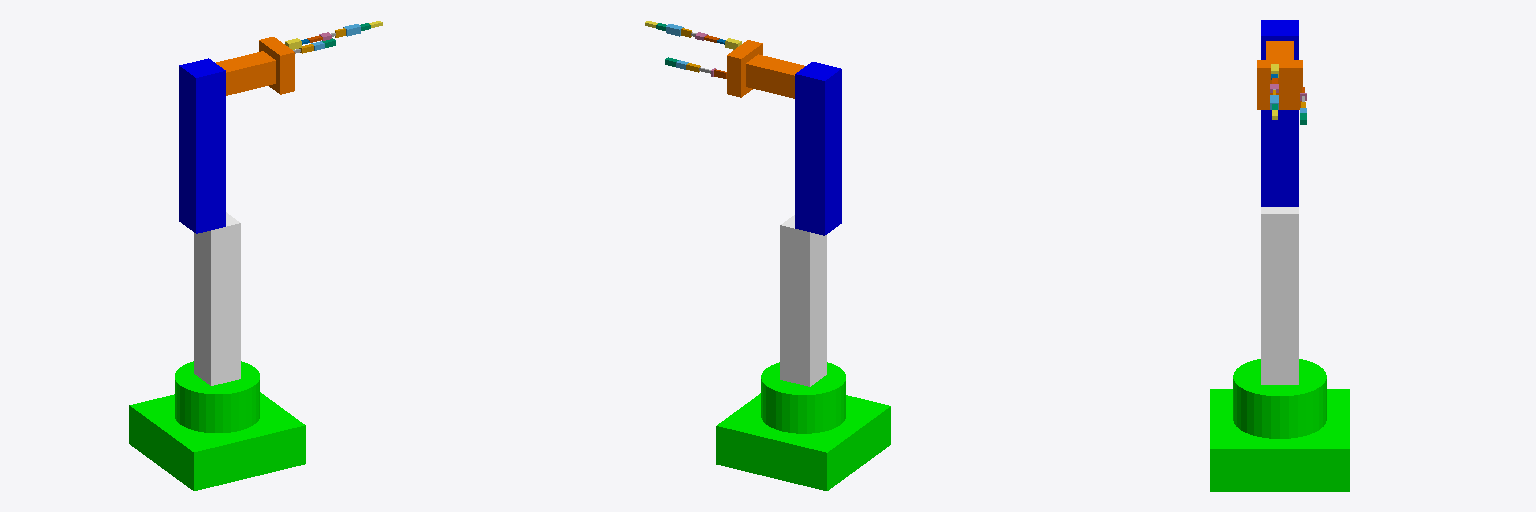
The robot description file, URDF, robot "robot":
<?xml version='1.0' encoding='utf-8'?>
<robot name="robot">
  <link name="base_link">
    <visual>
      <origin xyz="0 0 0.125" rpy="0 0 0" />
      <geometry>
        <box size="0.75 0.75 0.25" />
      </geometry>
      <material name="green" />
    </visual>
    <visual>
      <origin xyz="0 0 0.375" rpy="0 0 0" />
      <geometry>
        <cylinder length="0.25" radius="0.25" />
      </geometry>
      <material name="green">
        <color rgba="0 1 0 1" />
      </material>
    </visual>
    <collision>
      <geometry>
        <box size="0.75 0.75 0.5" />
      </geometry>
    </collision>
    <inertial>
      <mass value="0.5" />
      <inertia ixx="0.034" ixy="0.0" ixz="0.0" iyy="0.034" iyz="0.0" izz="0.034" />
    </inertial>
  </link>
  <link name="support_link">
    <visual>
      <origin xyz="0 0 0.5" rpy="0 0 0" />
      <geometry>
        <box size="0.2 0.2 1" />
      </geometry>
      <material name="white">
        <color rgba="1 1 1 1" />
      </material>
    </visual>
    <collision>
      <geometry>
        <box size="0.2 0.2 1" />
      </geometry>
    </collision>
    <inertial>
      <mass value="0.1" />
      <inertia ixx="0.01" ixy="0.0" ixz="0.0" iyy="0.01" iyz="0.0" izz="0.01" />
    </inertial>
  </link>
  <joint name="support_joint" type="continuous">
    <origin xyz="0 0 0.5" rpy="0 0 0" />
    <parent link="base_link" />
    <child link="support_link" />
    <axis xyz="0 0 1" />
  </joint>
  <link name="arm_link">
    <visual>
      <origin xyz="0 0 0.5" rpy="0 0 0" />
      <geometry>
        <box size="0.2 0.2 1" />
      </geometry>
      <material name="blue">
        <color rgba="0 0 1 1" />
      </material>
    </visual>
    <collision>
      <geometry>
        <box size="0.2 0.2 1" />
      </geometry>
    </collision>
    <inertial>
      <mass value="0.1" />
      <inertia ixx="0.01" ixy="0.0" ixz="0.0" iyy="0.01" iyz="0.0" izz="0.01" />
    </inertial>
  </link>
  <joint name="arm_joint" type="revolute">
    <origin xyz="-0.1 0 1" rpy="0 0 0" />
    <parent link="support_link" />
    <child link="arm_link" />
    <axis xyz="0 1 0" />
    <limit lower="-3.14" upper="3.14" effort="1.0" velocity="1.0" />
  </joint>
  <link name="wrist_link">
    <visual>
      <origin xyz="0 0 0.25" rpy="0 0 0" />
      <geometry>
        <box size="0.15 0.15 0.5" />
      </geometry>
      <material name="orange">
        <color rgba="1 0.5 0 1" />
      </material>
    </visual>
    <collision>
      <geometry>
        <box size="0.15 0.15 0.5" />
      </geometry>
    </collision>
    <inertial>
      <mass value="0.1" />
      <inertia ixx="0.01" ixy="0.0" ixz="0.0" iyy="0.01" iyz="0.0" izz="0.01" />
    </inertial>
  </link>
  <joint name="wrist_joint" type="fixed">
    <origin xyz="0 0 0.9" rpy="0 1.571 0" />
    <parent link="arm_link" />
    <child link="wrist_link" />
  </joint>
  <link name="palm_link">
    <visual>
      <origin xyz="0 0 0.05" rpy="0 0 0" />
      <geometry>
        <box size="0.25 0.25 0.1" />
      </geometry>
      <material name="orange" />
    </visual>
    <collision>
      <geometry>
        <box size="0.25 0.25 0.1" />
      </geometry>
    </collision>
    <inertial>
      <mass value="0.1" />
      <inertia ixx="0.01" ixy="0.0" ixz="0.0" iyy="0.01" iyz="0.0" izz="0.01" />
    </inertial>
  </link>
  <joint name="palm_joint" type="fixed">
    <origin xyz="0 0 0.45" rpy="0 0 0" />
    <parent link="wrist_link" />
    <child link="palm_link" />
  </joint>
  <link name="finger_link_0_0">
    <visual>
      <origin xyz="0 0 0.0395" rpy="0 0 0" />
      <geometry>
        <box size="0.041 0.014 0.079" />
      </geometry>
    </visual>
    <collision>
      <geometry>
        <box size="0.041 0.014 0.079" />
      </geometry>
    </collision>
    <inertial>
      <mass value="0.014" />
      <inertia ixx="0.0" iyy="0.0" izz="0.0" ixy="0" ixz="0" iyz="0" />
    </inertial>
  </link>
  <joint name="finger_joint_palm_link_to_finger_link_0_0" type="revolute">
    <origin xyz="0.006 0.125 0.1" rpy="0 0 0" />
    <parent link="palm_link" />
    <child link="finger_link_0_0" />
    <axis xyz="-1.0 0.0 0.0" />
    <limit lower="-3.142" upper="3.142" effort="10" velocity="10" />
  </joint>
  <link name="finger_link_0_1">
    <visual>
      <origin xyz="0 0 0.0075" rpy="0 0 0" />
      <geometry>
        <box size="0.04 0.038 0.015" />
      </geometry>
    </visual>
    <collision>
      <geometry>
        <box size="0.04 0.038 0.015" />
      </geometry>
    </collision>
    <inertial>
      <mass value="0.007" />
      <inertia ixx="0.0" iyy="0.0" izz="0.0" ixy="0" ixz="0" iyz="0" />
    </inertial>
  </link>
  <joint name="finger_joint_finger_link_0_0_to_finger_link_0_1" type="revolute">
    <origin xyz="0.0 0.0 0.079" rpy="0 0 0" />
    <parent link="finger_link_0_0" />
    <child link="finger_link_0_1" />
    <axis xyz="1.0 0.0 0.0" />
    <limit lower="-3.142" upper="3.142" effort="10" velocity="10" />
  </joint>
  <link name="finger_link_0_2">
    <visual>
      <origin xyz="0 0 0.0435" rpy="0 0 0" />
      <geometry>
        <box size="0.019 0.011 0.087" />
      </geometry>
    </visual>
    <collision>
      <geometry>
        <box size="0.019 0.011 0.087" />
      </geometry>
    </collision>
    <inertial>
      <mass value="0.005" />
      <inertia ixx="0.0" iyy="0.0" izz="0.0" ixy="0" ixz="0" iyz="0" />
    </inertial>
  </link>
  <joint name="finger_joint_finger_link_0_1_to_finger_link_0_2" type="revolute">
    <origin xyz="0.0 0.0 0.015" rpy="0 0 0" />
    <parent link="finger_link_0_1" />
    <child link="finger_link_0_2" />
    <axis xyz="0.0 1.0 0.0" />
    <limit lower="-3.142" upper="3.142" effort="10" velocity="10" />
  </joint>
  <link name="finger_link_0_3">
    <visual>
      <origin xyz="0 0 0.041" rpy="0 0 0" />
      <geometry>
        <box size="0.033 0.03 0.082" />
      </geometry>
    </visual>
    <collision>
      <geometry>
        <box size="0.033 0.03 0.082" />
      </geometry>
    </collision>
    <inertial>
      <mass value="0.024" />
      <inertia ixx="0.0" iyy="0.0" izz="0.0" ixy="0" ixz="0" iyz="0" />
    </inertial>
  </link>
  <joint name="finger_joint_finger_link_0_2_to_finger_link_0_3" type="revolute">
    <origin xyz="0.0 0.0 0.087" rpy="0 0 0" />
    <parent link="finger_link_0_2" />
    <child link="finger_link_0_3" />
    <axis xyz="0.0 1.0 0.0" />
    <limit lower="-3.142" upper="3.142" effort="10" velocity="10" />
  </joint>
  <link name="finger_link_0_4">
    <visual>
      <origin xyz="0 0 0.0335" rpy="0 0 0" />
      <geometry>
        <box size="0.034 0.037 0.067" />
      </geometry>
    </visual>
    <collision>
      <geometry>
        <box size="0.034 0.037 0.067" />
      </geometry>
    </collision>
    <inertial>
      <mass value="0.025" />
      <inertia ixx="0.0" iyy="0.0" izz="0.0" ixy="0" ixz="0" iyz="0" />
    </inertial>
  </link>
  <joint name="finger_joint_finger_link_0_3_to_finger_link_0_4" type="revolute">
    <origin xyz="0.0 0.0 0.082" rpy="0 0 0" />
    <parent link="finger_link_0_3" />
    <child link="finger_link_0_4" />
    <axis xyz="0.0 1.0 0.0" />
    <limit lower="-3.142" upper="3.142" effort="10" velocity="10" />
  </joint>
  <link name="finger_link_0_5">
    <visual>
      <origin xyz="0 0 0.0385" rpy="0 0 0" />
      <geometry>
        <box size="0.034 0.035 0.077" />
      </geometry>
    </visual>
    <collision>
      <geometry>
        <box size="0.034 0.035 0.077" />
      </geometry>
    </collision>
    <inertial>
      <mass value="0.027" />
      <inertia ixx="0.0" iyy="0.0" izz="0.0" ixy="0" ixz="0" iyz="0" />
    </inertial>
  </link>
  <joint name="finger_joint_finger_link_0_4_to_finger_link_0_5" type="revolute">
    <origin xyz="0.0 0.0 0.067" rpy="0 0 0" />
    <parent link="finger_link_0_4" />
    <child link="finger_link_0_5" />
    <axis xyz="0.0 1.0 0.0" />
    <limit lower="-3.142" upper="3.142" effort="10" velocity="10" />
  </joint>
  <link name="finger_link_1_0">
    <visual>
      <origin xyz="0 0 0.0425" rpy="0 0 0" />
      <geometry>
        <box size="0.044 0.045 0.085" />
      </geometry>
    </visual>
    <collision>
      <geometry>
        <box size="0.044 0.045 0.085" />
      </geometry>
    </collision>
    <inertial>
      <mass value="0.05" />
      <inertia ixx="0.0" iyy="0.0" izz="0.0" ixy="0" ixz="0" iyz="0" />
    </inertial>
  </link>
  <joint name="finger_joint_palm_link_to_finger_link_1_0" type="revolute">
    <origin xyz="-0.125 -0.028 0.1" rpy="0 0 0" />
    <parent link="palm_link" />
    <child link="finger_link_1_0" />
    <axis xyz="0.0 -1.0 0.0" />
    <limit lower="-3.142" upper="3.142" effort="10" velocity="10" />
  </joint>
  <link name="finger_link_1_1">
    <visual>
      <origin xyz="0 0 0.0295" rpy="0 0 0" />
      <geometry>
        <box size="0.012 0.036 0.059" />
      </geometry>
    </visual>
    <collision>
      <geometry>
        <box size="0.012 0.036 0.059" />
      </geometry>
    </collision>
    <inertial>
      <mass value="0.008" />
      <inertia ixx="0.0" iyy="0.0" izz="0.0" ixy="0" ixz="0" iyz="0" />
    </inertial>
  </link>
  <joint name="finger_joint_finger_link_1_0_to_finger_link_1_1" type="revolute">
    <origin xyz="0.0 0.0 0.085" rpy="0 0 0" />
    <parent link="finger_link_1_0" />
    <child link="finger_link_1_1" />
    <axis xyz="0.0 1.0 0.0" />
    <limit lower="-3.142" upper="3.142" effort="10" velocity="10" />
  </joint>
  <link name="finger_link_1_2">
    <visual>
      <origin xyz="0 0 0.043" rpy="0 0 0" />
      <geometry>
        <box size="0.018 0.034 0.086" />
      </geometry>
    </visual>
    <collision>
      <geometry>
        <box size="0.018 0.034 0.086" />
      </geometry>
    </collision>
    <inertial>
      <mass value="0.016" />
      <inertia ixx="0.0" iyy="0.0" izz="0.0" ixy="0" ixz="0" iyz="0" />
    </inertial>
  </link>
  <joint name="finger_joint_finger_link_1_1_to_finger_link_1_2" type="revolute">
    <origin xyz="0.0 0.0 0.059" rpy="0 0 0" />
    <parent link="finger_link_1_1" />
    <child link="finger_link_1_2" />
    <axis xyz="0.0 1.0 0.0" />
    <limit lower="-3.142" upper="3.142" effort="10" velocity="10" />
  </joint>
  <link name="finger_link_1_3">
    <visual>
      <origin xyz="0 0 0.03" rpy="0 0 0" />
      <geometry>
        <box size="0.024 0.049 0.06" />
      </geometry>
    </visual>
    <collision>
      <geometry>
        <box size="0.024 0.049 0.06" />
      </geometry>
    </collision>
    <inertial>
      <mass value="0.021" />
      <inertia ixx="0.0" iyy="0.0" izz="0.0" ixy="0" ixz="0" iyz="0" />
    </inertial>
  </link>
  <joint name="finger_joint_finger_link_1_2_to_finger_link_1_3" type="revolute">
    <origin xyz="0.0 0.0 0.086" rpy="0 0 0" />
    <parent link="finger_link_1_2" />
    <child link="finger_link_1_3" />
    <axis xyz="0.0 1.0 0.0" />
    <limit lower="-3.142" upper="3.142" effort="10" velocity="10" />
  </joint>
  <link name="finger_link_1_4">
    <visual>
      <origin xyz="0 0 0.018" rpy="0 0 0" />
      <geometry>
        <box size="0.017 0.015 0.036" />
      </geometry>
    </visual>
    <collision>
      <geometry>
        <box size="0.017 0.015 0.036" />
      </geometry>
    </collision>
    <inertial>
      <mass value="0.003" />
      <inertia ixx="0.0" iyy="0.0" izz="0.0" ixy="0" ixz="0" iyz="0" />
    </inertial>
  </link>
  <joint name="finger_joint_finger_link_1_3_to_finger_link_1_4" type="revolute">
    <origin xyz="0.0 0.0 0.06" rpy="0 0 0" />
    <parent link="finger_link_1_3" />
    <child link="finger_link_1_4" />
    <axis xyz="0.0 1.0 0.0" />
    <limit lower="-3.142" upper="3.142" effort="10" velocity="10" />
  </joint>
  <link name="finger_link_1_5">
    <visual>
      <origin xyz="0 0 0.0325" rpy="0 0 0" />
      <geometry>
        <box size="0.043 0.016 0.065" />
      </geometry>
    </visual>
    <collision>
      <geometry>
        <box size="0.043 0.016 0.065" />
      </geometry>
    </collision>
    <inertial>
      <mass value="0.013" />
      <inertia ixx="0.0" iyy="0.0" izz="0.0" ixy="0" ixz="0" iyz="0" />
    </inertial>
  </link>
  <joint name="finger_joint_finger_link_1_4_to_finger_link_1_5" type="revolute">
    <origin xyz="0.0 0.0 0.036" rpy="0 0 0" />
    <parent link="finger_link_1_4" />
    <child link="finger_link_1_5" />
    <axis xyz="0.0 1.0 0.0" />
    <limit lower="-3.142" upper="3.142" effort="10" velocity="10" />
  </joint>
  <link name="finger_link_1_6">
    <visual>
      <origin xyz="0 0 0.048" rpy="0 0 0" />
      <geometry>
        <box size="0.044 0.046 0.096" />
      </geometry>
    </visual>
    <collision>
      <geometry>
        <box size="0.044 0.046 0.096" />
      </geometry>
    </collision>
    <inertial>
      <mass value="0.058" />
      <inertia ixx="0.0" iyy="0.0" izz="0.0" ixy="0" ixz="0" iyz="0" />
    </inertial>
  </link>
  <joint name="finger_joint_finger_link_1_5_to_finger_link_1_6" type="revolute">
    <origin xyz="0.0 0.0 0.065" rpy="0 0 0" />
    <parent link="finger_link_1_5" />
    <child link="finger_link_1_6" />
    <axis xyz="1.0 0.0 0.0" />
    <limit lower="-3.142" upper="3.142" effort="10" velocity="10" />
  </joint>
  <link name="finger_link_1_7">
    <visual>
      <origin xyz="0 0 0.033" rpy="0 0 0" />
      <geometry>
        <box size="0.026 0.034 0.066" />
      </geometry>
    </visual>
    <collision>
      <geometry>
        <box size="0.026 0.034 0.066" />
      </geometry>
    </collision>
    <inertial>
      <mass value="0.018" />
      <inertia ixx="0.0" iyy="0.0" izz="0.0" ixy="0" ixz="0" iyz="0" />
    </inertial>
  </link>
  <joint name="finger_joint_finger_link_1_6_to_finger_link_1_7" type="revolute">
    <origin xyz="0.0 0.0 0.096" rpy="0 0 0" />
    <parent link="finger_link_1_6" />
    <child link="finger_link_1_7" />
    <axis xyz="1.0 0.0 0.0" />
    <limit lower="-3.142" upper="3.142" effort="10" velocity="10" />
  </joint>
  <link name="finger_link_1_8">
    <visual>
      <origin xyz="0 0 0.04" rpy="0 0 0" />
      <geometry>
        <box size="0.021 0.031 0.08" />
      </geometry>
    </visual>
    <collision>
      <geometry>
        <box size="0.021 0.031 0.08" />
      </geometry>
    </collision>
    <inertial>
      <mass value="0.016" />
      <inertia ixx="0.0" iyy="0.0" izz="0.0" ixy="0" ixz="0" iyz="0" />
    </inertial>
  </link>
  <joint name="finger_joint_finger_link_1_7_to_finger_link_1_8" type="revolute">
    <origin xyz="0.0 0.0 0.066" rpy="0 0 0" />
    <parent link="finger_link_1_7" />
    <child link="finger_link_1_8" />
    <axis xyz="0.0 1.0 0.0" />
    <limit lower="-3.142" upper="3.142" effort="10" velocity="10" />
  </joint>
</robot>

--- What the picture shows (computed from the rendered views, not written in the file) ---
Views: 3 orthographic renders of the robot side by side, from view 1: azimuth 30°, elevation 25°; view 2: azimuth 150°, elevation 25°; view 3: azimuth 270°, elevation 25°.
Robot: robot — 20 links, 19 joints (16 revolute, 1 continuous, 2 fixed); root link base_link; default pose: all joints at 0.
Visible links, largest first — view 1: base_link, arm_link, support_link, wrist_link, palm_link; view 2: base_link, arm_link, support_link, wrist_link, palm_link; view 3: base_link, support_link, arm_link, palm_link, wrist_link.
Boxes of the visible links, x1,y1,x2,y2 form: base_link: (129,361,305,490); arm_link: (179,58,225,233); support_link: (194,212,240,385); wrist_link: (216,51,275,95); palm_link: (259,37,294,94); base_link: (716,362,890,490); arm_link: (795,62,841,235); support_link: (780,215,826,386); wrist_link: (746,54,804,98); palm_link: (727,40,762,97); base_link: (1210,359,1349,491); support_link: (1261,207,1298,384); arm_link: (1261,20,1298,206); palm_link: (1257,60,1302,109); wrist_link: (1266,41,1293,59).
Size in the robot's own frame: 1.46 by 0.75 by 2.55 metres.
Geometry: primitives only (box / cylinder / sphere), no mesh files.
